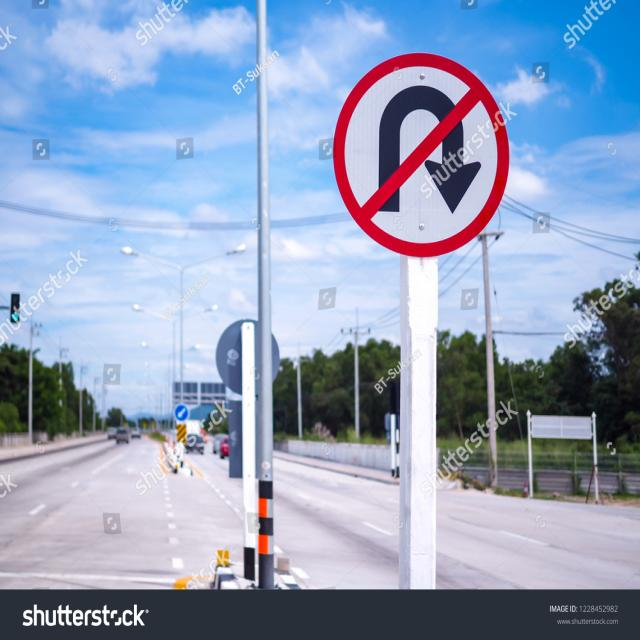Demi-Tour-Interdit: (344, 64, 492, 238)
